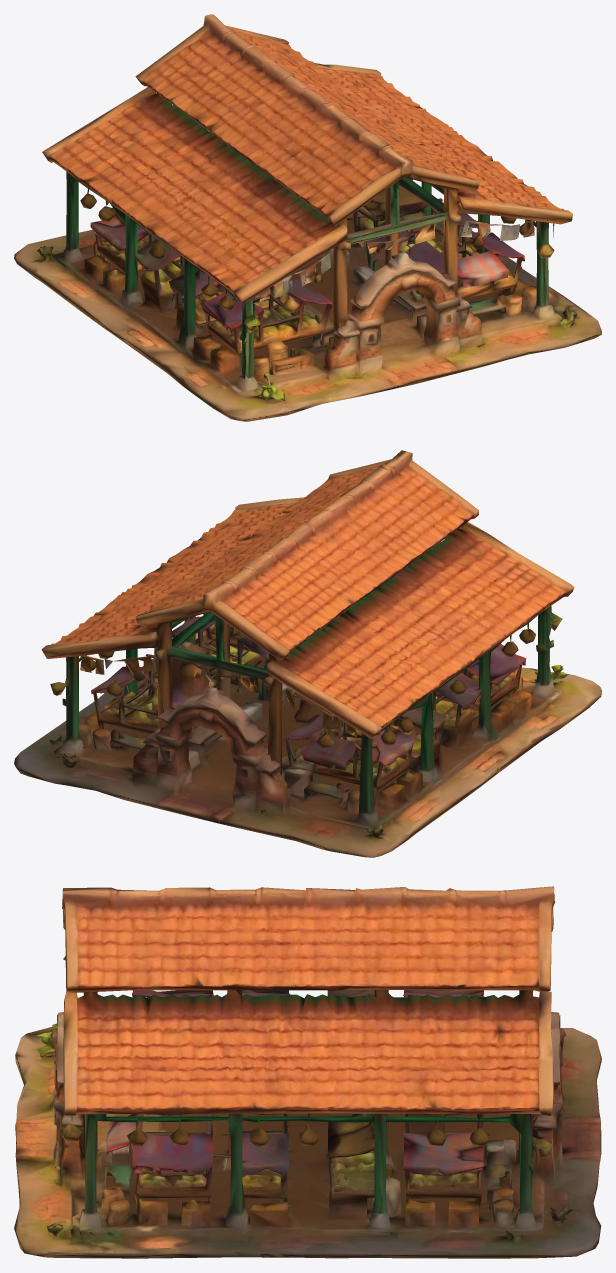
File: pasar.glb
The picture shows the model from 3 angles, top to bottom: view 1: azimuth 30°, elevation 25°; view 2: azimuth 150°, elevation 25°; view 3: azimuth 270°, elevation 25°; orthographic projection. The views are drawn at different scales.
Visible parts, largest first — view 1: tripo_node_dcbb7944-8ff4-4b81-8f23-5e97f213261f; view 2: tripo_node_dcbb7944-8ff4-4b81-8f23-5e97f213261f; view 3: tripo_node_dcbb7944-8ff4-4b81-8f23-5e97f213261f.
Part boxes in pixels (x1=…): tripo_node_dcbb7944-8ff4-4b81-8f23-5e97f213261f: x1=14, y1=14, x2=601, y2=421; tripo_node_dcbb7944-8ff4-4b81-8f23-5e97f213261f: x1=14, y1=450, x2=601, y2=857; tripo_node_dcbb7944-8ff4-4b81-8f23-5e97f213261f: x1=14, y1=886, x2=601, y2=1258.
Size of the model in its own units: 0.9129 by 0.4854 by 0.9997.
1 material, 1 textured.
